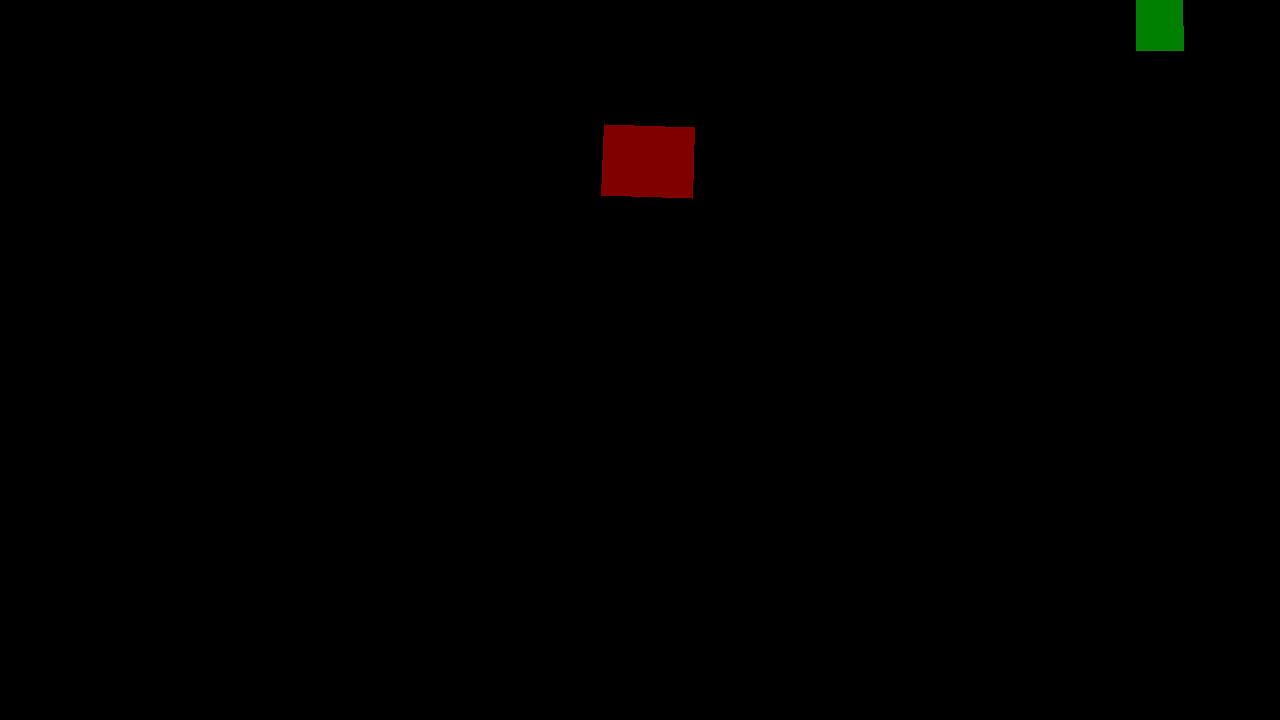sign: (1136, 0, 1183, 50)
tvmonitor: (601, 124, 694, 198)
